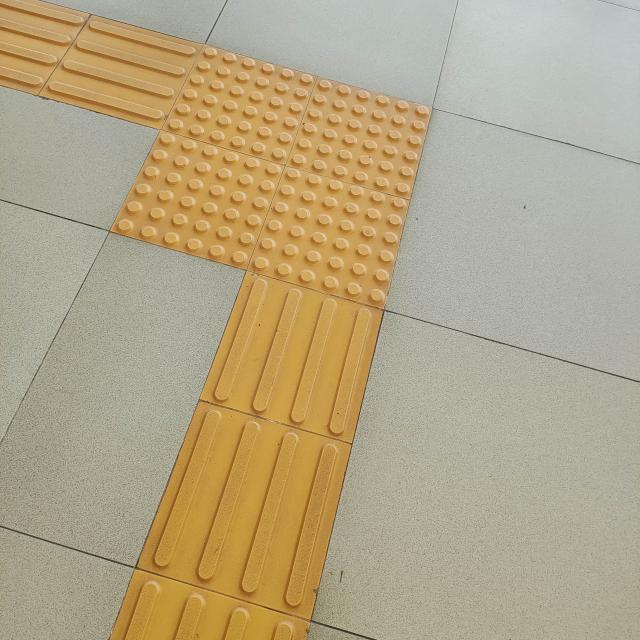kiri: (2, 0, 530, 396)
